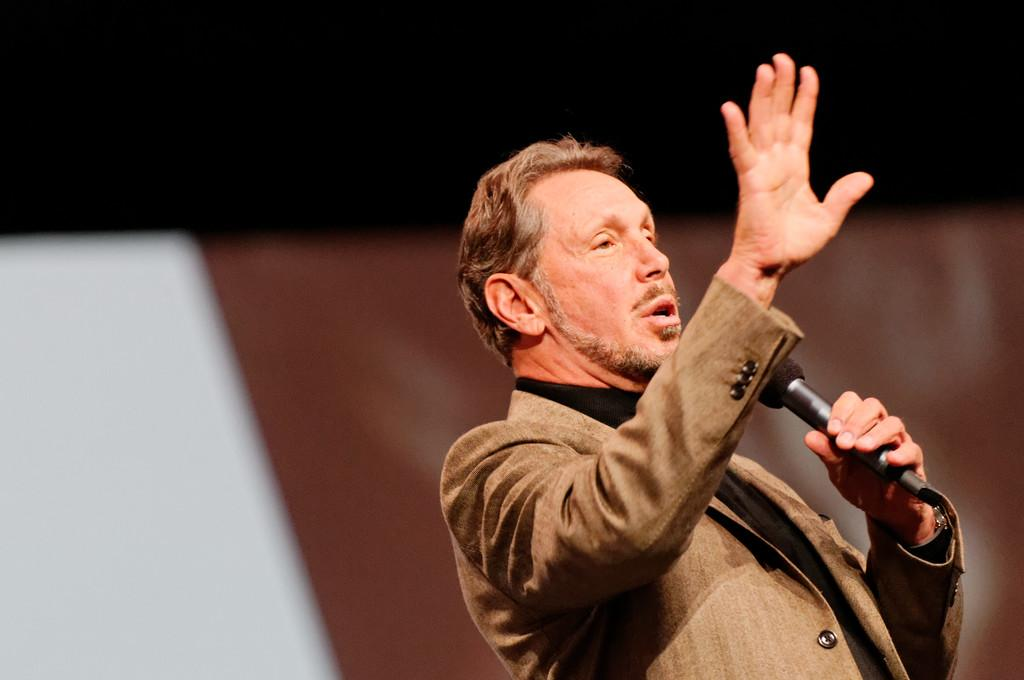Sem Máscara: (521, 169, 681, 374)
